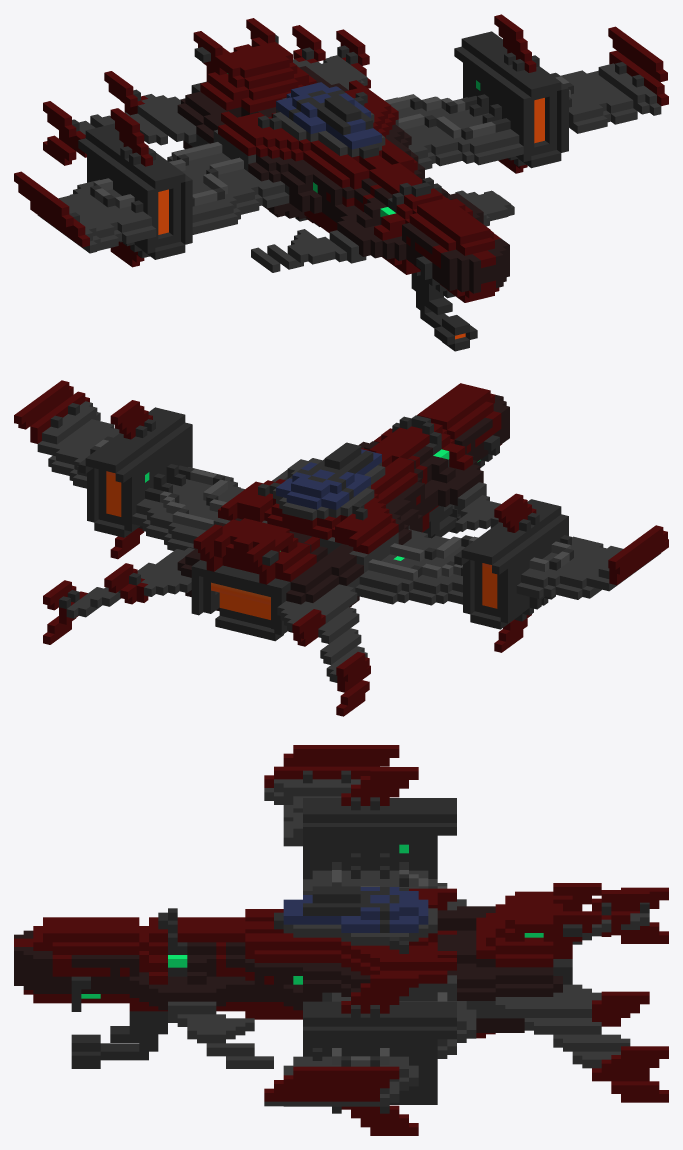
Rendered from FighterCustom.fbx.
3 views of the same model, one above another, from view 1: azimuth 30°, elevation 25°; view 2: azimuth 150°, elevation 25°; view 3: azimuth 270°, elevation 25° (orthographic). The views are drawn at different scales.
Visible parts, largest first — view 1: Untitled; view 2: Untitled; view 3: Untitled.
Part boxes in pixels (<box>): Untitled: <box>14,14,668,351</box>; Untitled: <box>14,380,668,716</box>; Untitled: <box>14,745,668,1135</box>.
Size of the model in its own units: 800 by 220 by 680.
1 material, 1 textured.
